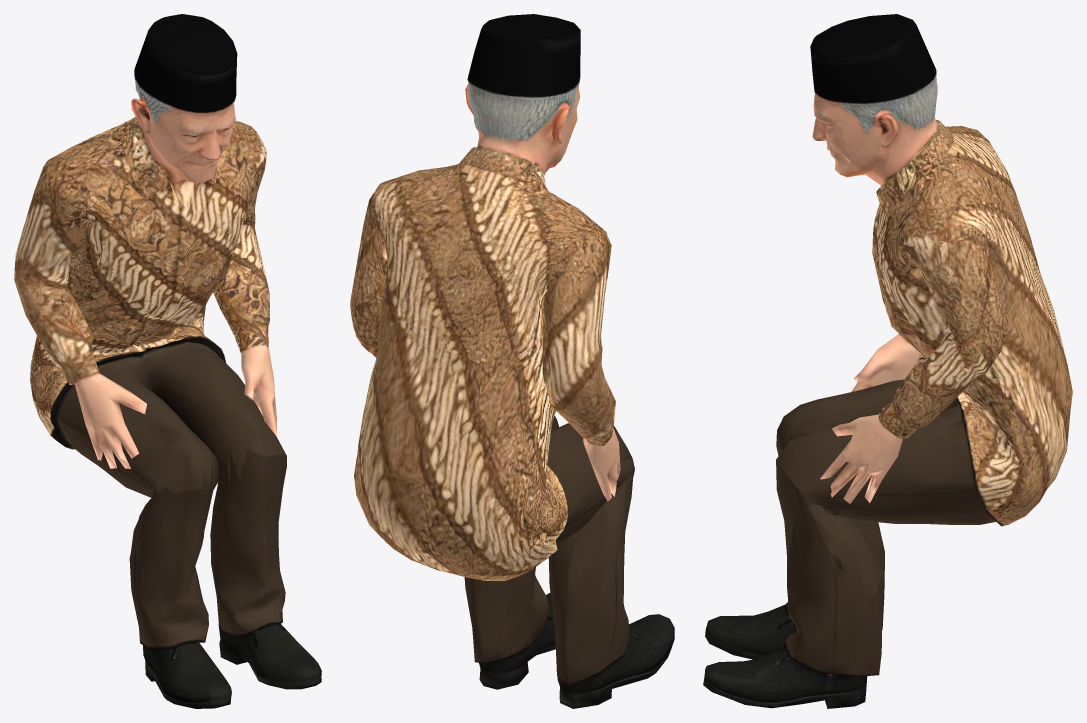
The model's file is fan_uncle_lean.glb.
3 views of the same model, side by side, from view 1: azimuth 30°, elevation 25°; view 2: azimuth 150°, elevation 25°; view 3: azimuth 270°, elevation 25° (orthographic). The views are drawn at different scales.
Visible parts, largest first — view 1: char1; view 2: char1; view 3: char1.
Part boxes in pixels (<box>): char1: <box>14,14,321,708</box>; char1: <box>350,14,674,708</box>; char1: <box>703,14,1072,708</box>.
Size of the model in its own units: 0.4888 by 1.26 by 0.6462.
Materials: 1 (1 with a texture image).
